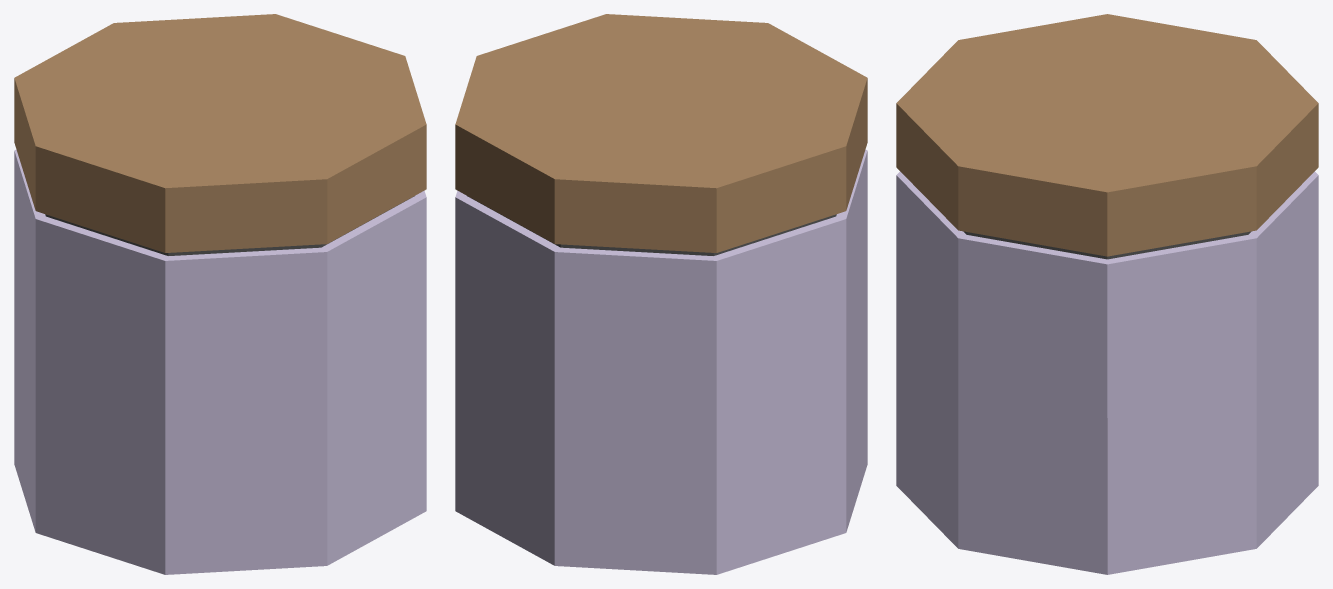
Rendered from BathroomProps_08.fbx.
3 views of the same model, side by side, from view 1: azimuth 30°, elevation 25°; view 2: azimuth 150°, elevation 25°; view 3: azimuth 270°, elevation 25° (orthographic).
Parts seen in each view (by area): view 1: BathroomProps_08; view 2: BathroomProps_08; view 3: BathroomProps_08.
Boxes of the visible parts, x1,y1,x2,y2 form: BathroomProps_08: (14, 14, 426, 574); BathroomProps_08: (455, 14, 867, 574); BathroomProps_08: (896, 14, 1318, 574).
Bounding box in the file's own units: 12.04 × 12.04 × 12.04.
